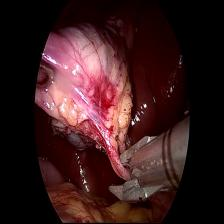Clipper: (108, 126, 173, 204)
Grasper: (34, 64, 54, 94)
